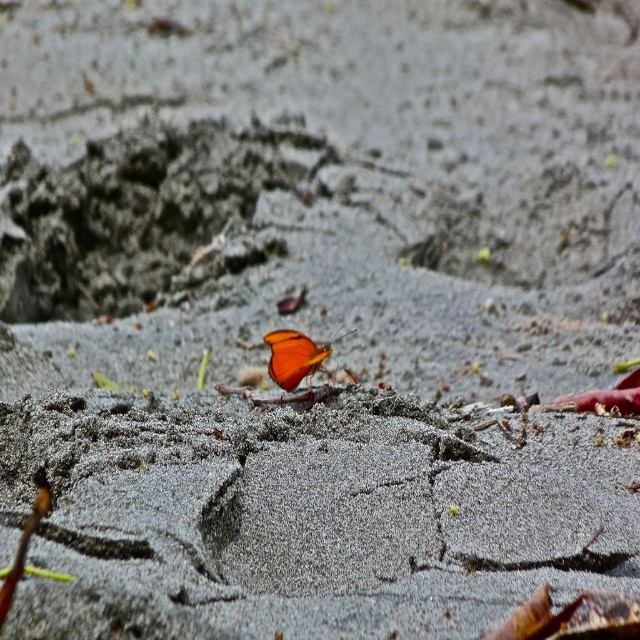Butterfly: (260, 327, 331, 405)
